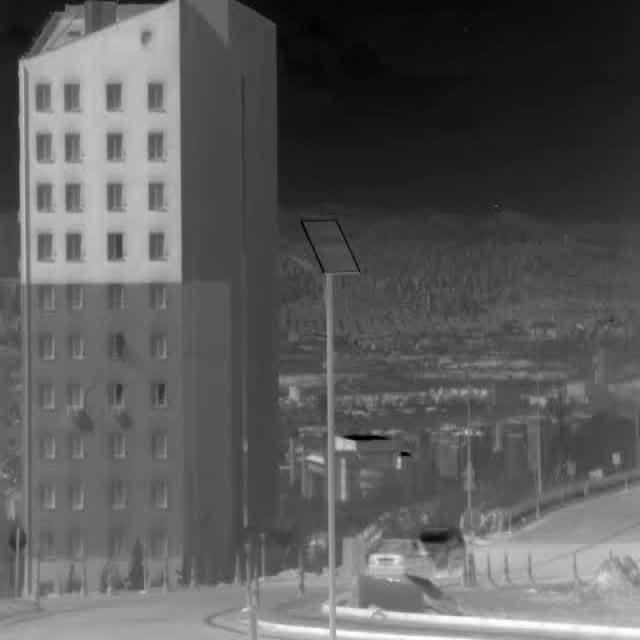Car: (366, 535, 438, 584), (417, 520, 465, 576)
